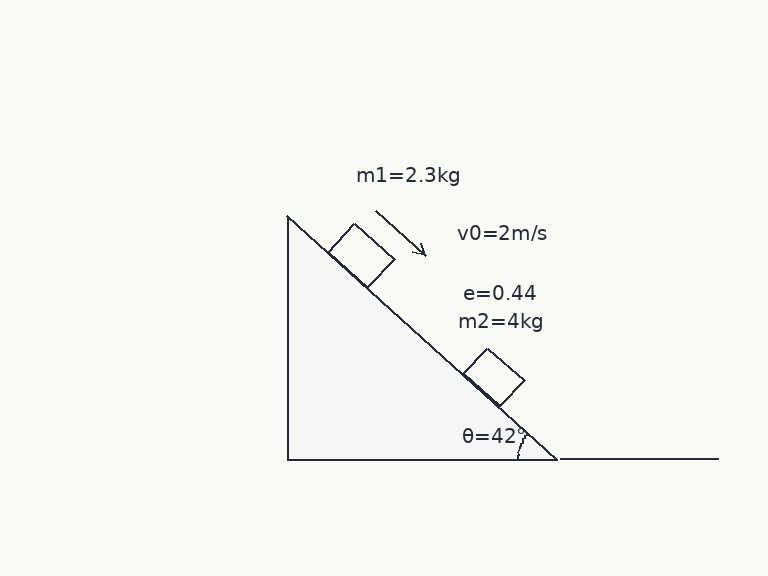block: (326, 221, 396, 290), (461, 345, 525, 408)
ramp: (286, 213, 560, 461)
